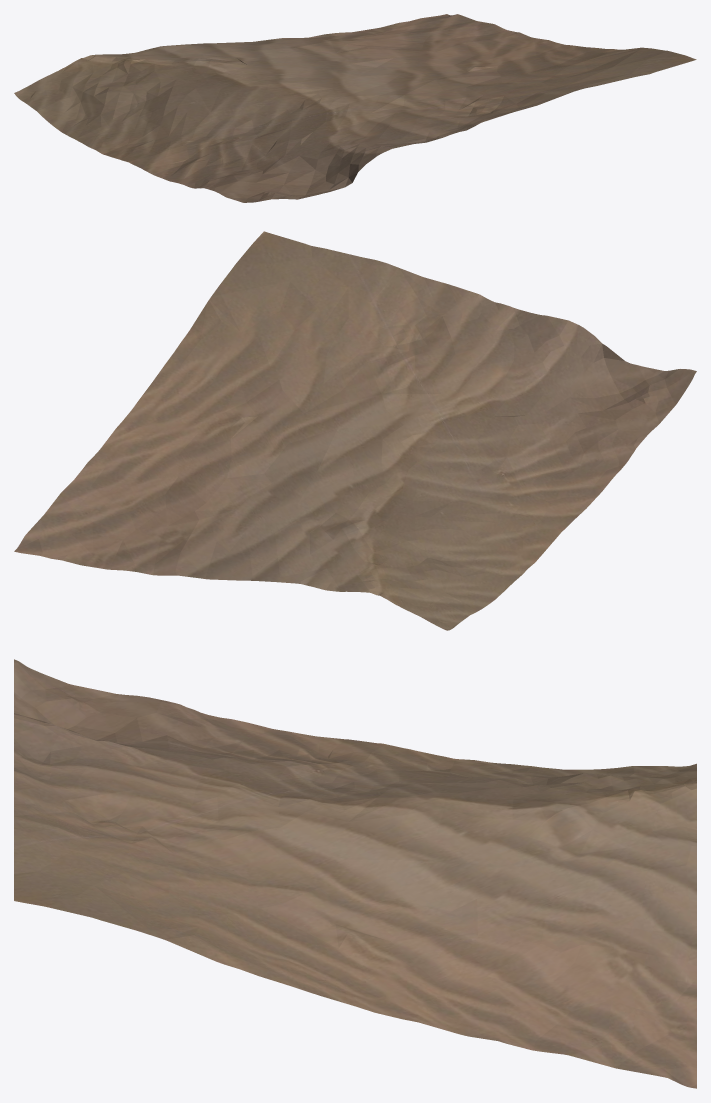
The picture shows the model from 3 angles, top to bottom: view 1: azimuth 30°, elevation 25°; view 2: azimuth 150°, elevation 25°; view 3: azimuth 270°, elevation 25°; orthographic projection. The views are drawn at different scales.
Bounding box in the file's own units: 1.04 × 0.3166 × 1.04.
2 materials, 2 textured.
